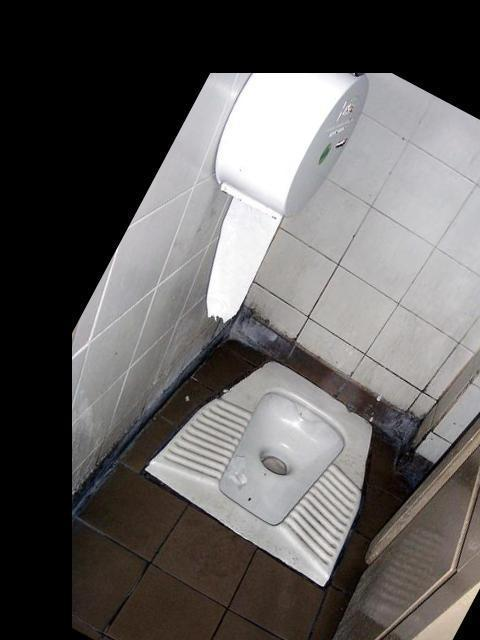Sanitario: (155, 334, 397, 584)
